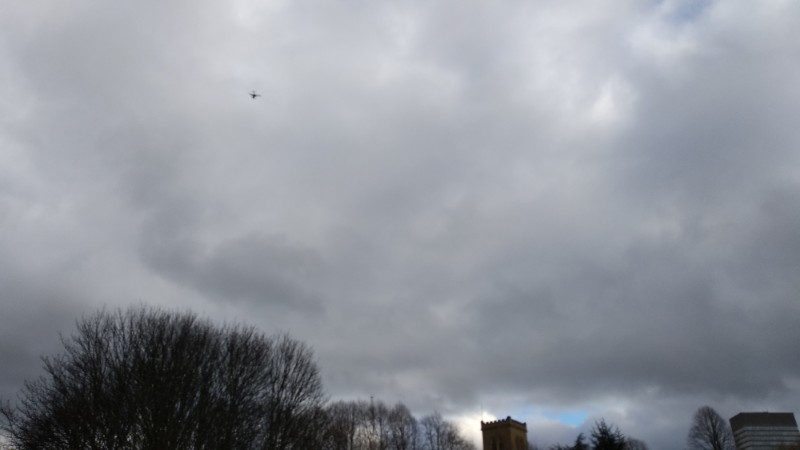drone: (249, 92, 261, 100)
